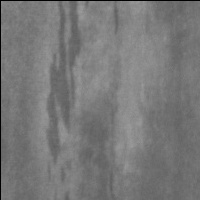inclusion: (41, 2, 94, 185), (81, 66, 122, 196), (108, 2, 123, 38)
